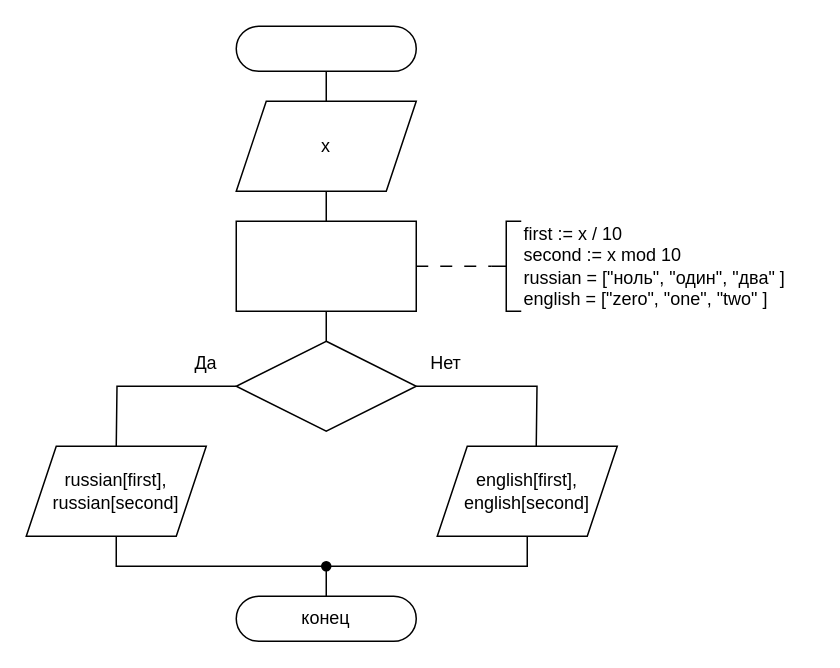
The diagram is 840 pixels wide and 668 high, and some of its shapes have lost their labels. Each missing label, with the centre of its shape:
first > second: (325,385)
начало: (325,48)
